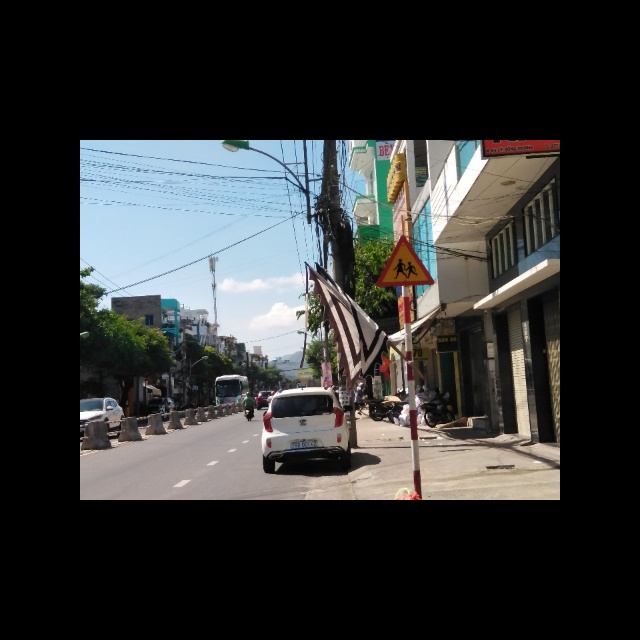Trẻ em ngang qua: (372, 238, 435, 288)
